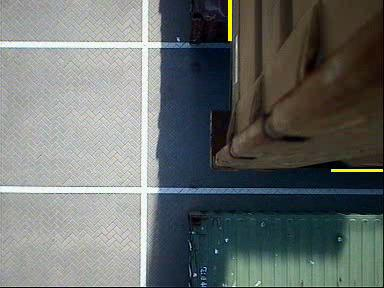groundmarker_2: (98, 90, 149, 129)
